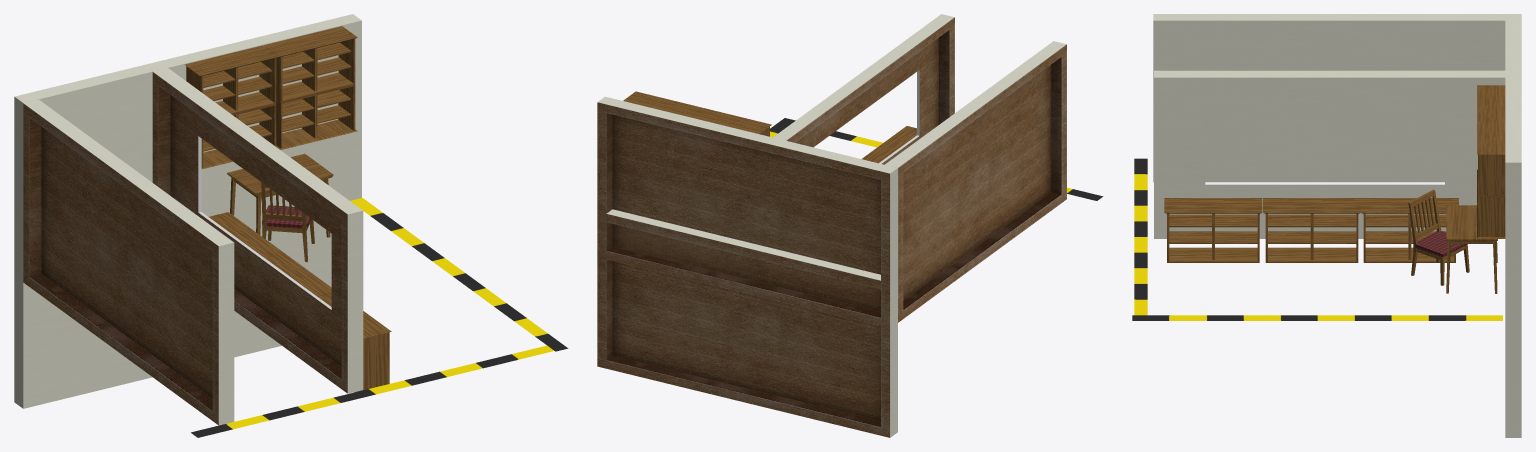
The model's file is smallSet.glb.
3 renders of one model, left to right at view 1: azimuth 30°, elevation 25°; view 2: azimuth 150°, elevation 25°; view 3: azimuth 270°, elevation 25°, orthographic. The views are drawn at different scales.
Visible parts, largest first — view 1: SetWall_Outside, SetWall_WIndow, SetWall, SetWall1, WALL_SHELF1, WALL_SHELF, WALL_SHELF3, FLOORTAPE_RECT1, FLOORTAPE_RECT, WALL_SHELF6, chair13, WALL_SHELF2 (+3 smaller); view 2: SetWall, SetWall1, SetWall_Outside, SetWall_WIndow, WALL_SHELF, WALL_SHELF1, WALL_SHELF6, FLOORTAPE_RECT1; view 3: SetWall_Outside, SetWall_WIndow, WALL_SHELF5, WALL_SHELF6, SetWall, WALL_SHELF4, chair13, FLOORTAPE_RECT, FLOORTAPE_RECT1, WALL_SHELF1, SetWall1, table_geo (+2 smaller).
Part boxes in pixels (x1,y1,x2,y2): SetWall_Outside: (23, 99, 234, 425); SetWall_WIndow: (152, 67, 363, 393); SetWall: (14, 14, 361, 281); SetWall1: (14, 147, 361, 408); WALL_SHELF1: (264, 26, 357, 102); WALL_SHELF: (184, 45, 278, 114); WALL_SHELF3: (276, 85, 357, 149); FLOORTAPE_RECT1: (191, 345, 553, 437); FLOORTAPE_RECT: (350, 198, 568, 351); WALL_SHELF6: (318, 293, 391, 392); chair13: (261, 182, 314, 262); WALL_SHELF2: (201, 104, 276, 169); SetWall: (597, 96, 897, 328); SetWall1: (597, 209, 897, 437); SetWall_Outside: (885, 41, 1066, 322); SetWall_WIndow: (773, 14, 954, 164); WALL_SHELF: (691, 108, 771, 136); WALL_SHELF1: (623, 91, 703, 117); WALL_SHELF6: (862, 126, 916, 163); FLOORTAPE_RECT1: (829, 131, 1103, 200); SetWall_Outside: (1153, 14, 1505, 182); SetWall_WIndow: (1154, 70, 1505, 238); WALL_SHELF5: (1263, 198, 1360, 262); WALL_SHELF6: (1164, 198, 1262, 262); SetWall: (1505, 14, 1521, 324); WALL_SHELF4: (1361, 198, 1458, 262); chair13: (1408, 189, 1469, 285); FLOORTAPE_RECT: (1132, 315, 1502, 320); FLOORTAPE_RECT1: (1134, 158, 1147, 315); WALL_SHELF1: (1477, 120, 1505, 195); SetWall1: (1505, 277, 1521, 437); table_geo: (1446, 205, 1497, 293).
Bounding box in the file's own units: 1.28 × 1.01 × 1.29.
7 materials, 6 textured.
